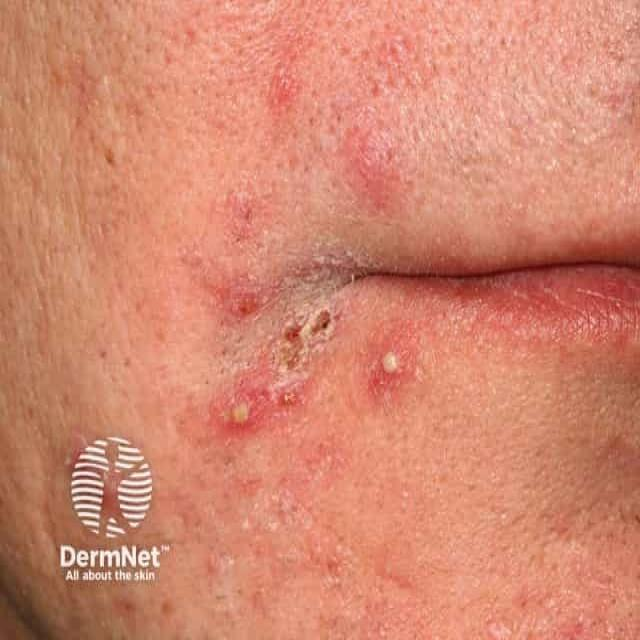Acne: (187, 174, 434, 487)
